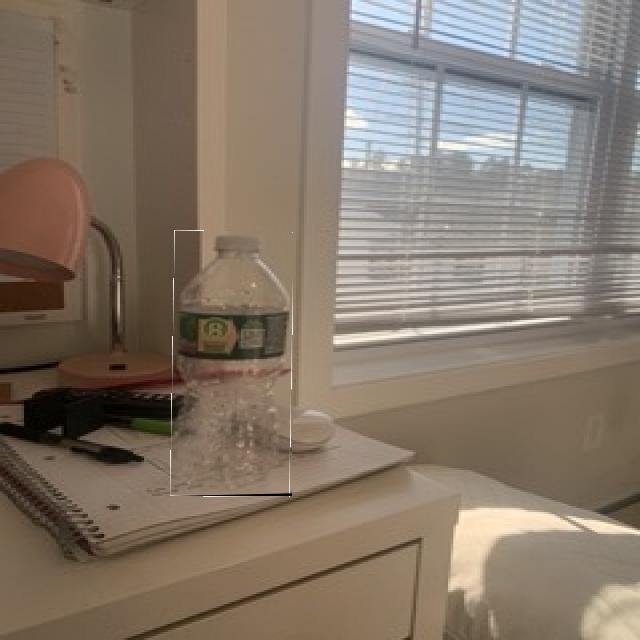water_bottle: (171, 231, 292, 496)
